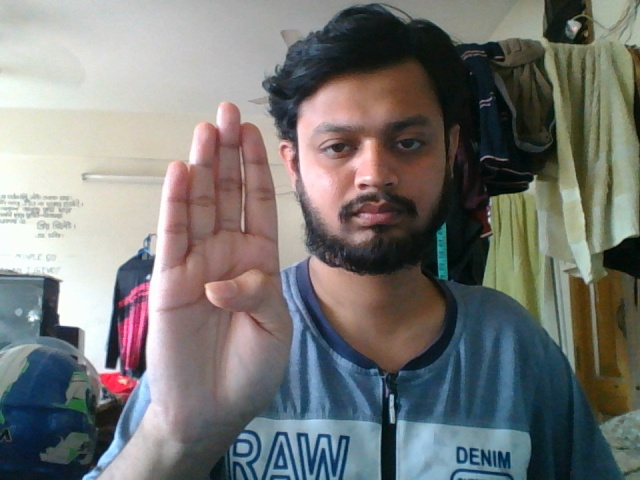ba: (136, 97, 300, 474)
